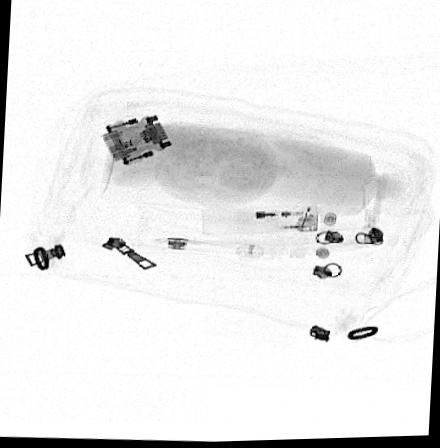Lighter: (200, 209, 321, 235)
